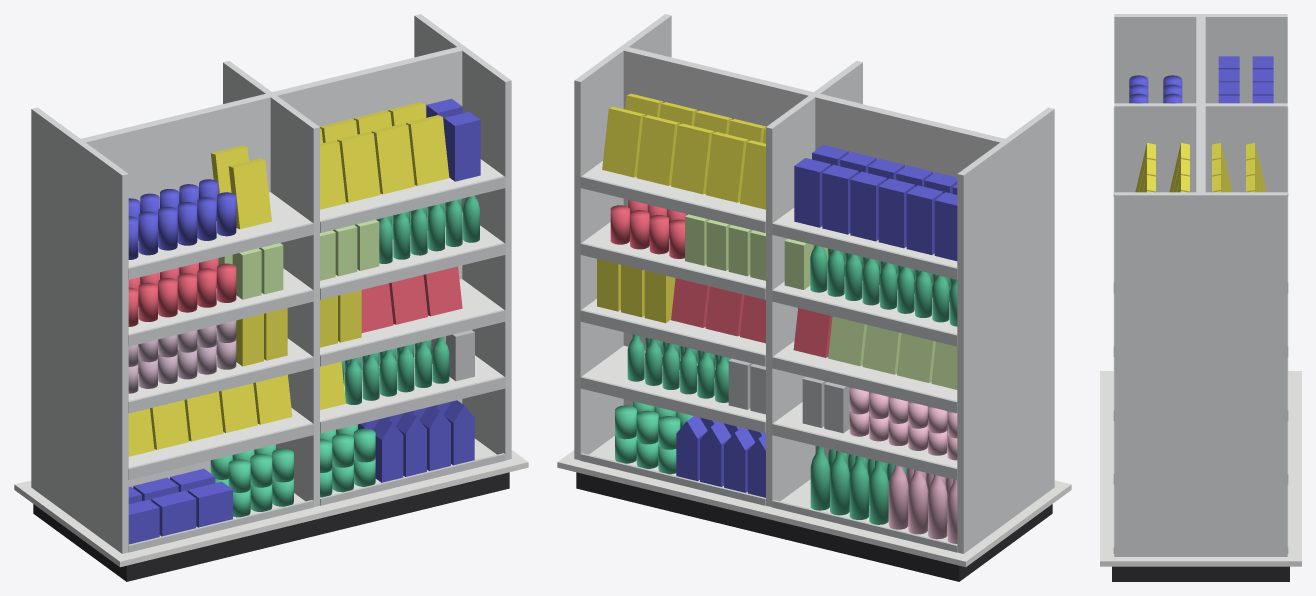
The model's file is Product shelf.glb.
3 renders of one model, left to right at view 1: azimuth 30°, elevation 25°; view 2: azimuth 150°, elevation 25°; view 3: azimuth 270°, elevation 25°, orthographic. The views are drawn at different scales.
Parts seen in each view (by area): view 1: ProductShelf_Root; view 2: ProductShelf_Root; view 3: ProductShelf_Root.
Boxes of the visible parts, x1,y1,x2,y2 form: ProductShelf_Root: (14, 14, 528, 581); ProductShelf_Root: (557, 14, 1071, 581); ProductShelf_Root: (1100, 14, 1301, 581).
Bounding box in the file's own units: 1.92 × 1.83 × 0.86.
